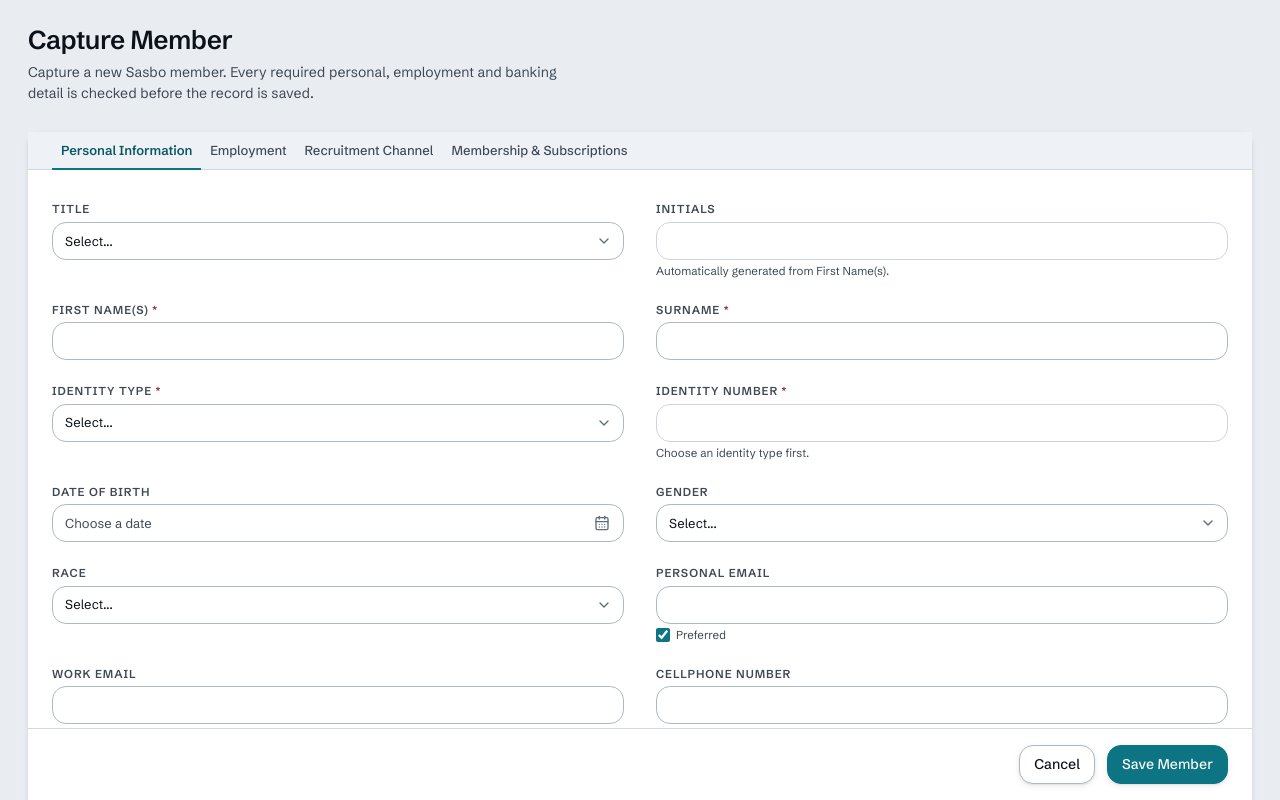
Scenario: Capture Member, when a list it offers failed › 🗣️ Area Recruited reads no list of its own any more: the suburbs failing says nothing on this tab
Click the button "Recruitment Channel" at (369, 151), box [296,132,442,170]
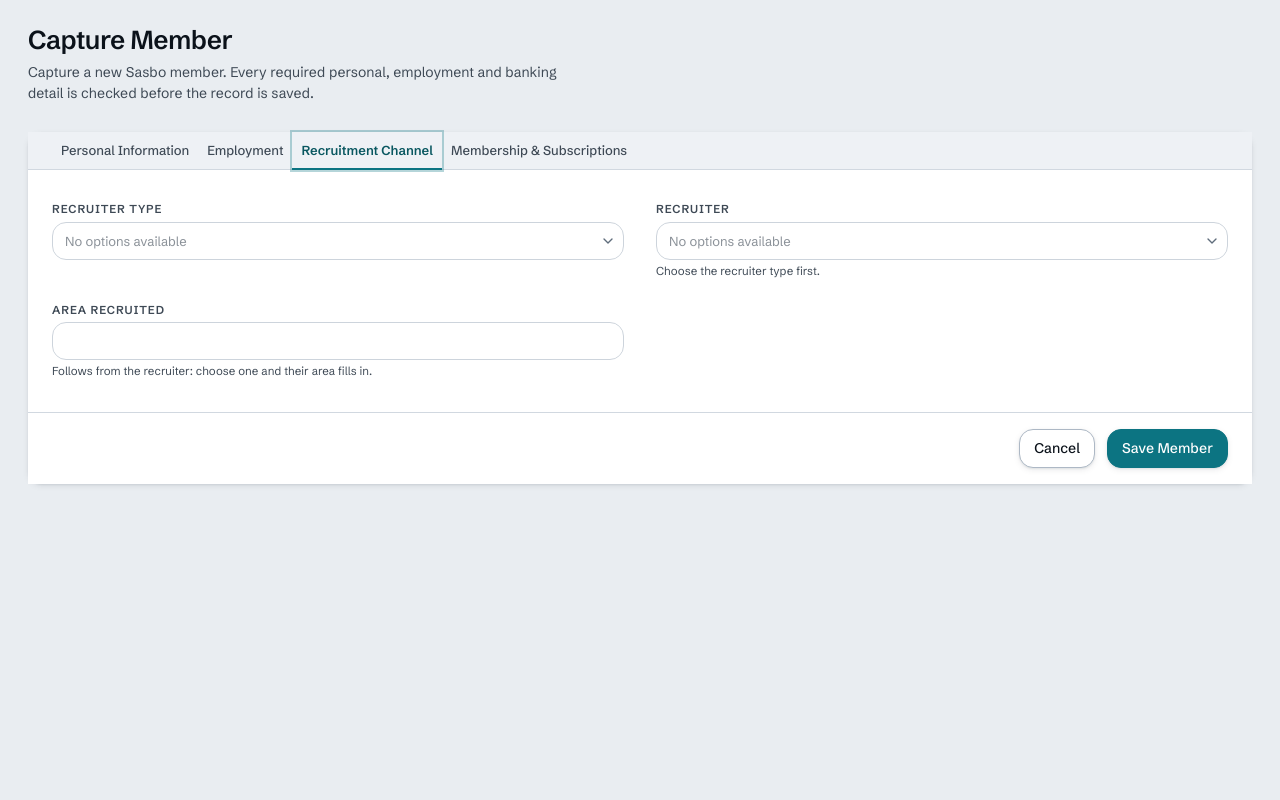
Expected: the text "Area Recruited" is shown, [52,303,165,317]
